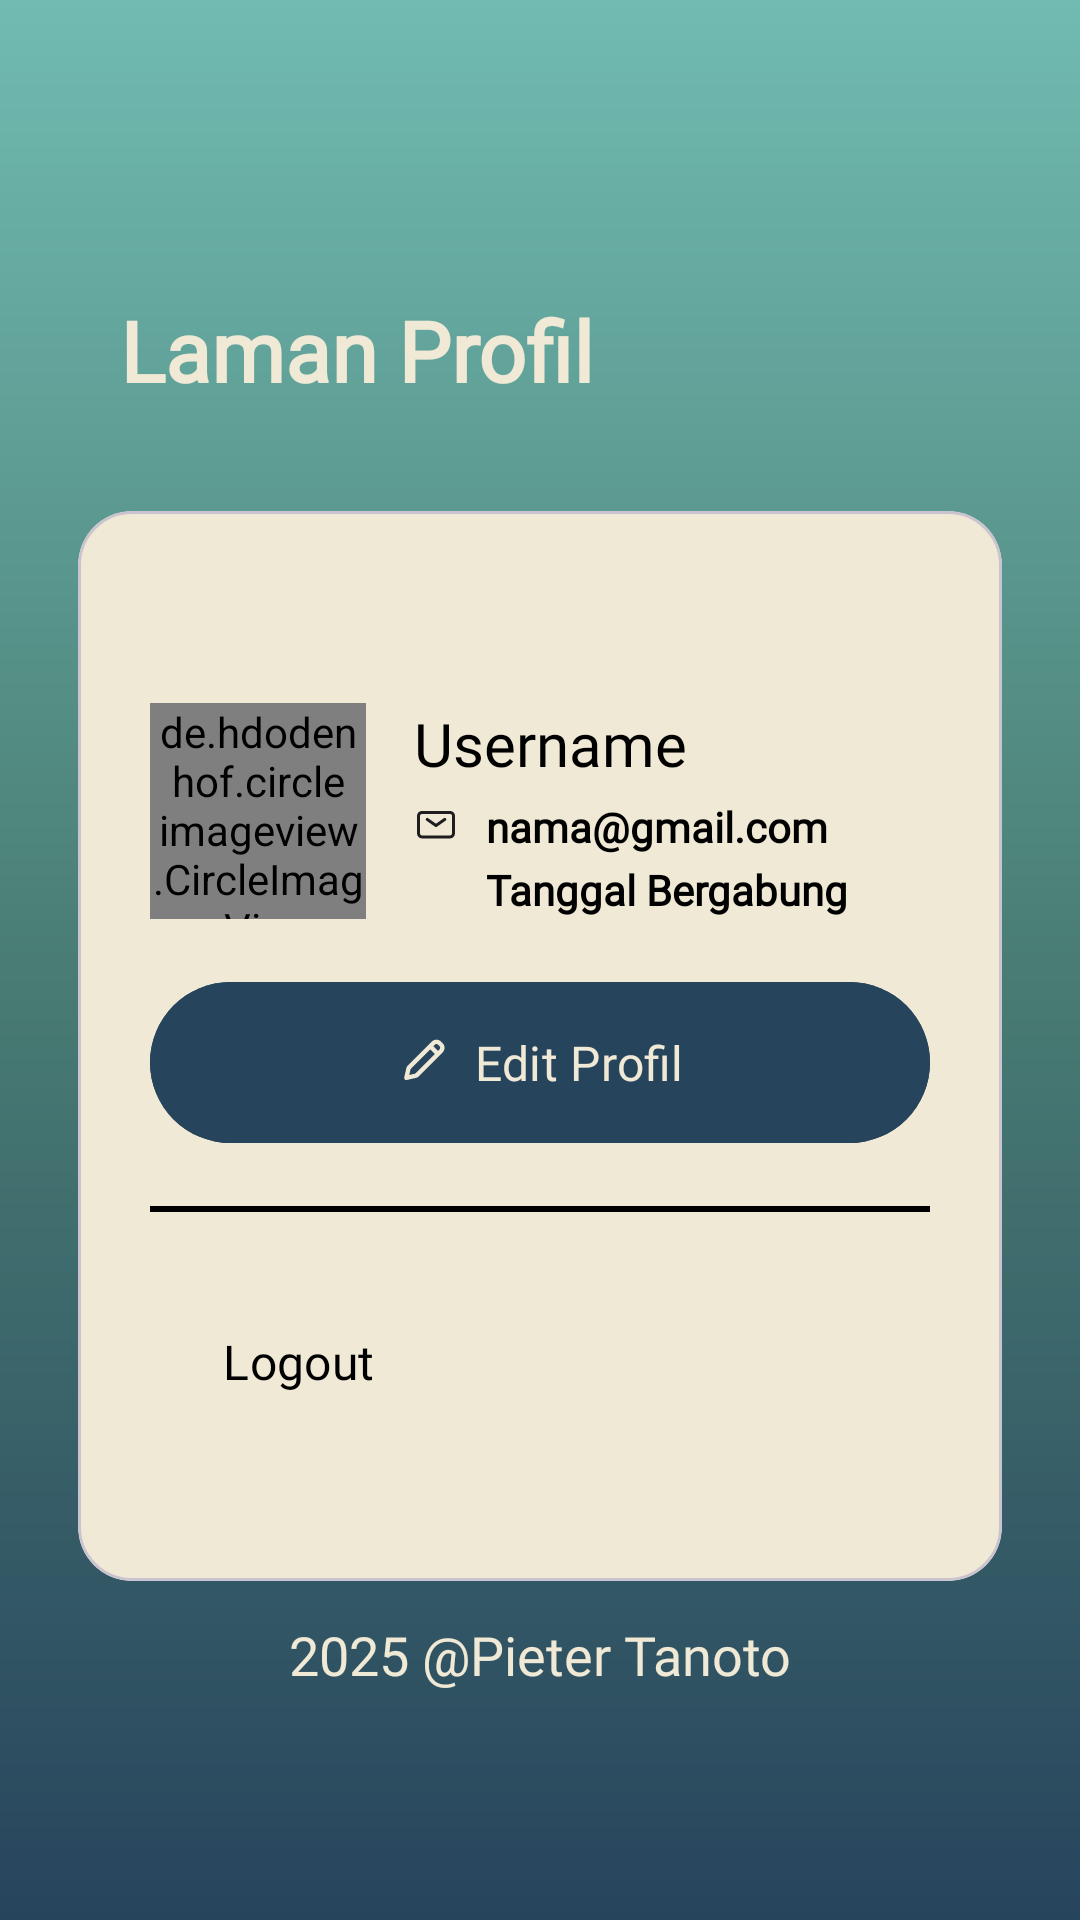

Named icons in this screenshot (1080px x 1920px) and their bounding boxes, (x1, y1, x2, y2):
email: (417, 811, 455, 839)
